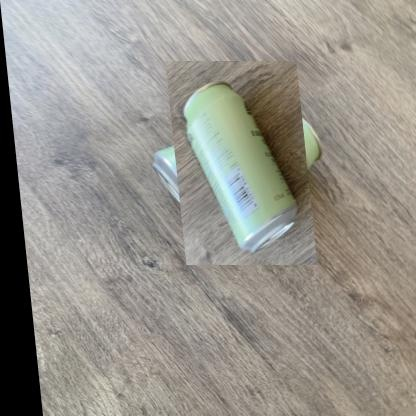trash: (183, 82, 296, 251)
